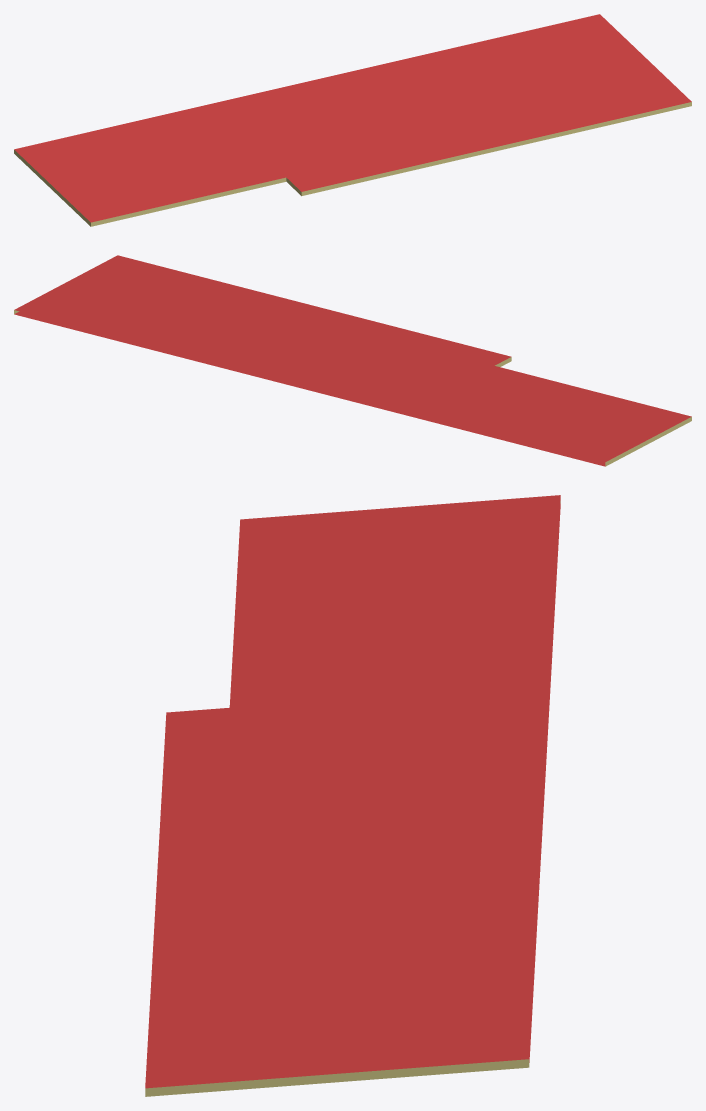
3 views of the same model, one above another, from view 1: azimuth 30°, elevation 25°; view 2: azimuth 150°, elevation 25°; view 3: azimuth 270°, elevation 25° (orthographic). The views are drawn at different scales.
Bounding box in the file's own units: 14.32 × 4.43 × 0.489.
